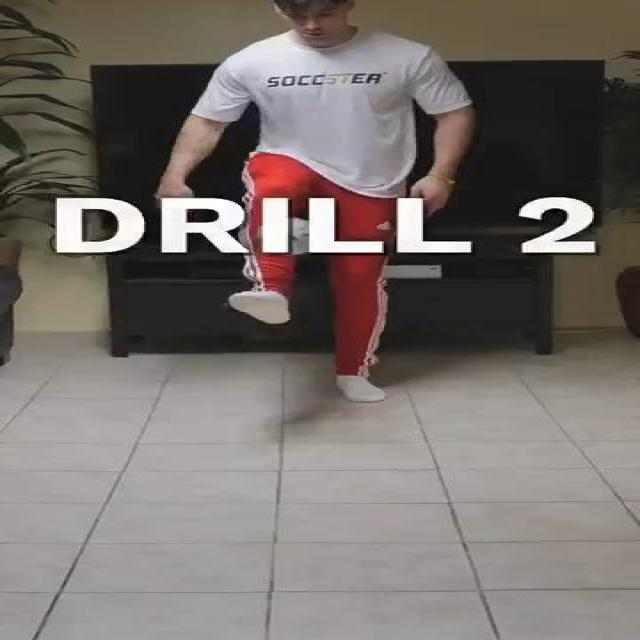Soccer Ball: (244, 213, 316, 257)
